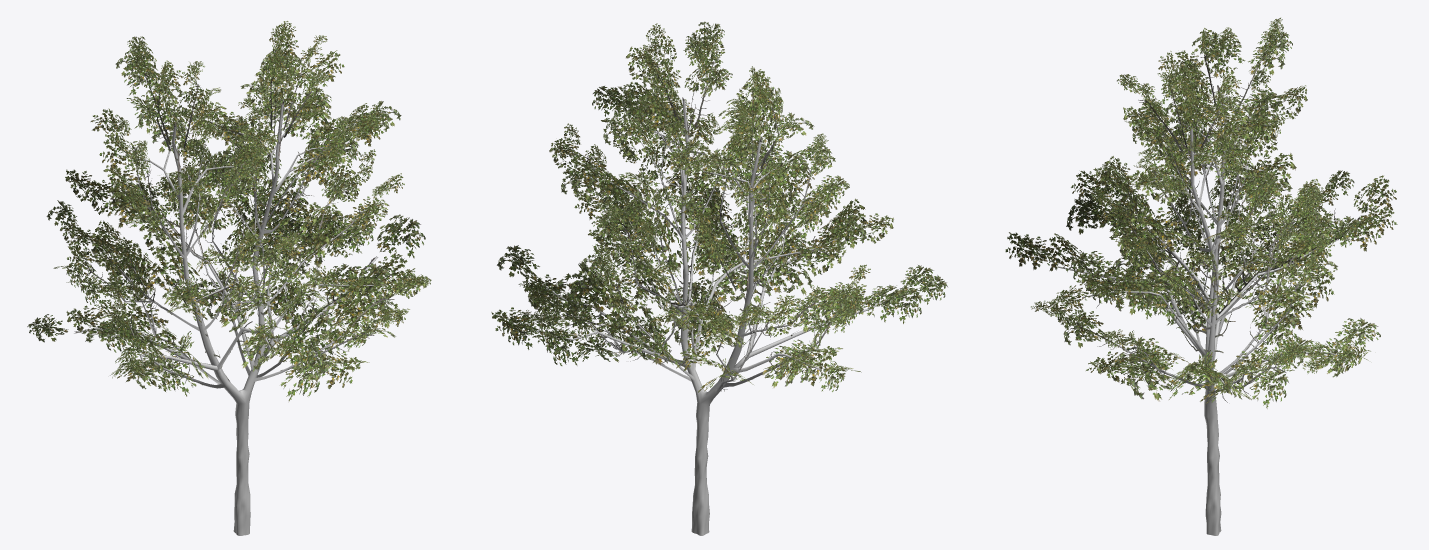
The model's file is JapaneseMaple_Low.fbx.
3 views of the same model, side by side, from view 1: azimuth 30°, elevation 25°; view 2: azimuth 150°, elevation 25°; view 3: azimuth 270°, elevation 25° (orthographic). The views are drawn at different scales.
Visible parts, largest first — view 1: JapaneseMaple_Low; view 2: JapaneseMaple_Low; view 3: JapaneseMaple_Low.
Boxes of the visible parts, x1,y1,x2,y2 form: JapaneseMaple_Low: [27, 21, 431, 535]; JapaneseMaple_Low: [491, 21, 947, 535]; JapaneseMaple_Low: [1005, 17, 1397, 535].
Bounding box in the file's own units: 298 × 340 × 269.
